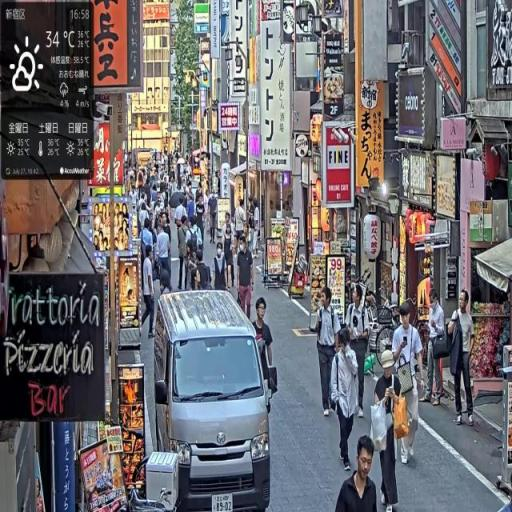person: (392, 299, 427, 468), (370, 351, 406, 512), (331, 325, 362, 473), (448, 290, 477, 430), (347, 281, 372, 423), (336, 435, 380, 512), (316, 286, 341, 421), (423, 289, 448, 407), (252, 296, 275, 374), (236, 235, 255, 320), (177, 216, 191, 293), (224, 213, 237, 290), (212, 243, 228, 292), (209, 188, 219, 245)
